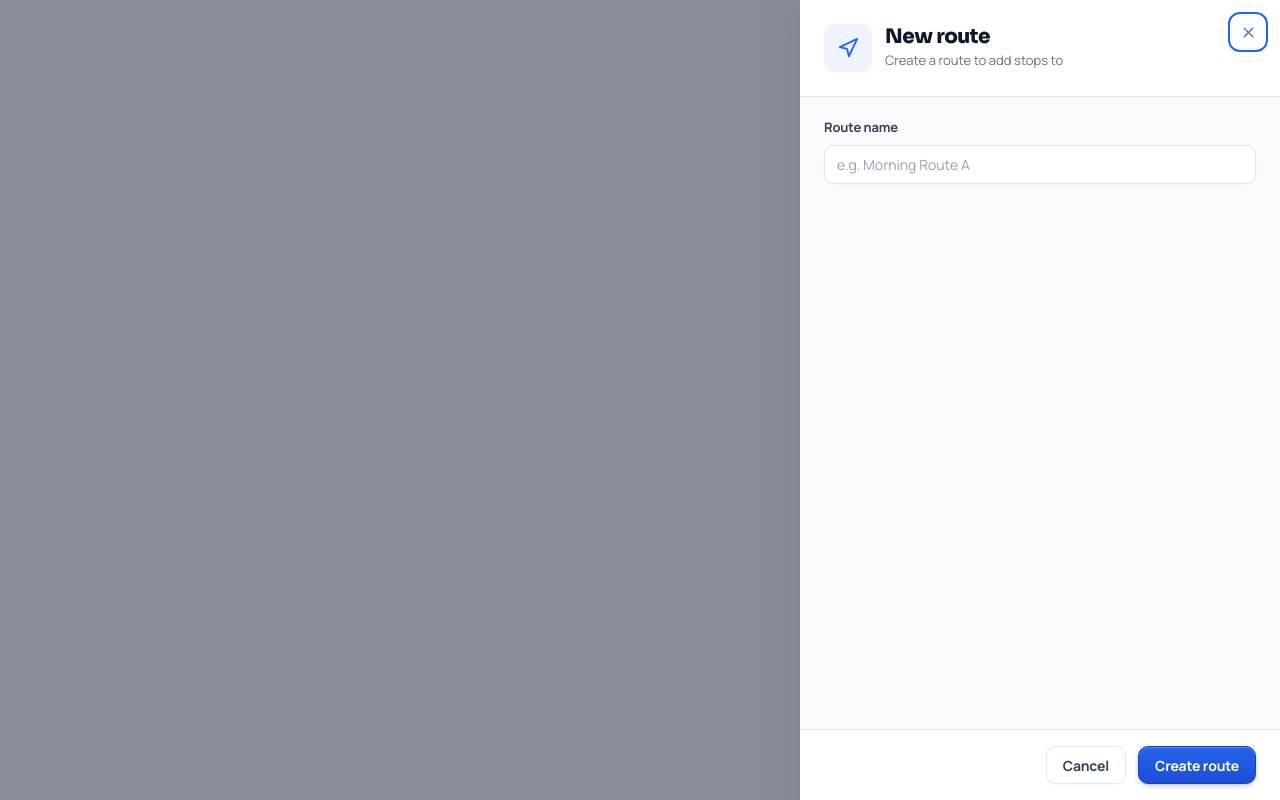
Scenario: CreateRouteForm › as org_admin (uses their own organization) › requires a non-empty route name
Click the button "Create route" at x=1197, y=765, box [1138, 746, 1256, 784]
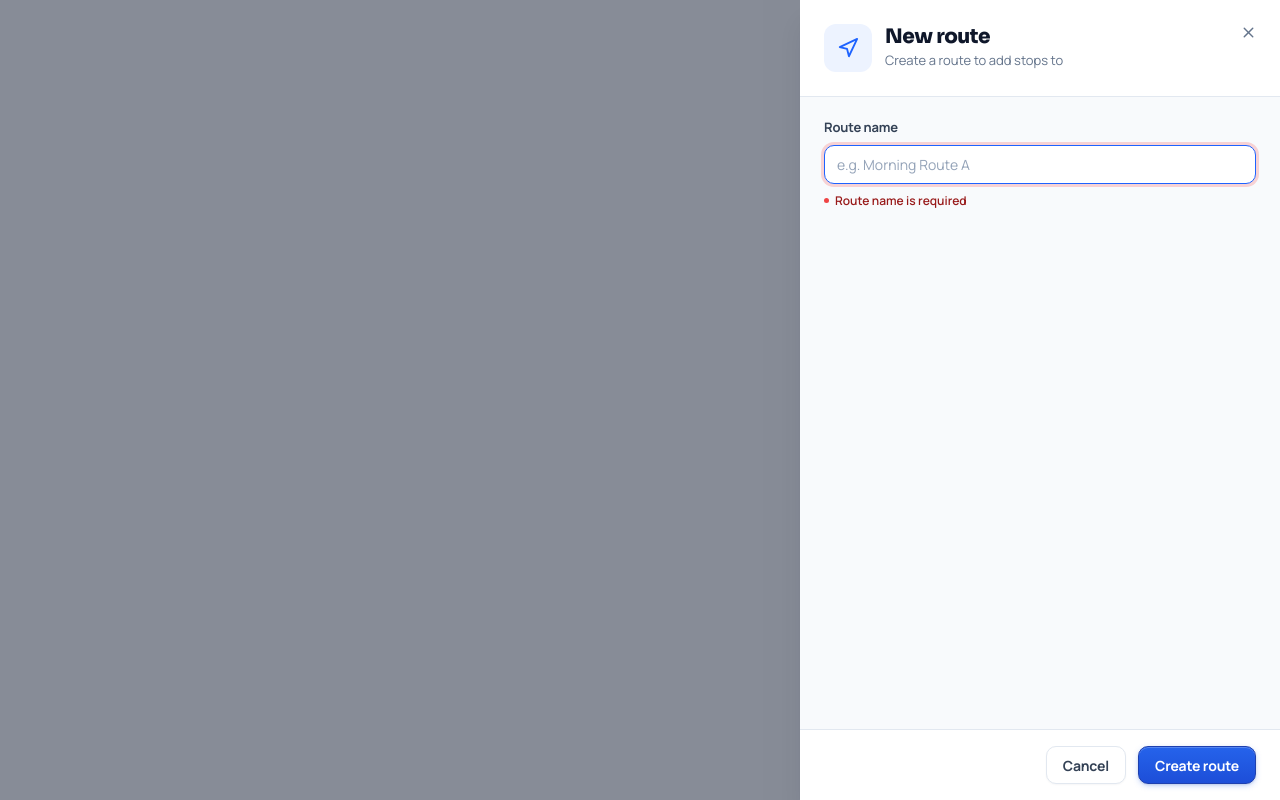
Result: the text "Route name is required" is shown at [835, 192, 967, 209]
